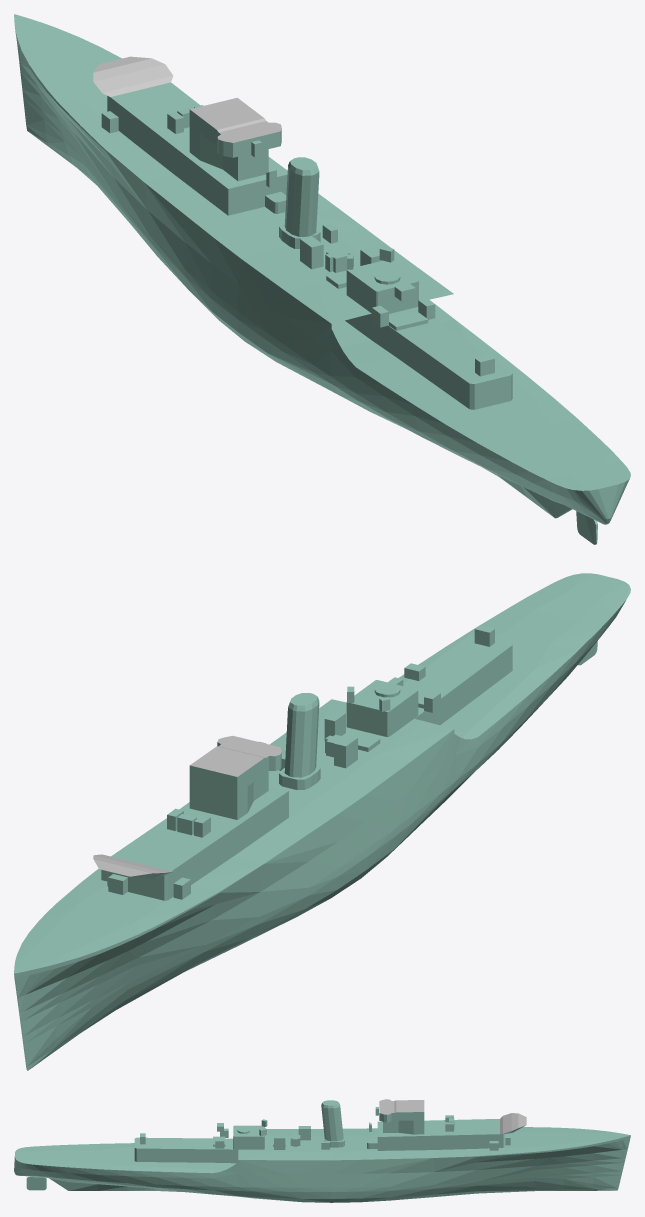
The model's file is PBSC101_armor.glb.
The picture shows the model from 3 angles, top to bottom: view 1: azimuth 30°, elevation 25°; view 2: azimuth 150°, elevation 25°; view 3: azimuth 270°, elevation 25°; orthographic projection. The views are drawn at different scales.
Visible parts, largest first — view 1: armor; view 2: armor; view 3: armor.
Boxes of the visible parts, x1=… form: armor: x1=14, y1=14, x2=630, y2=544; armor: x1=14, y1=573, x2=630, y2=1070; armor: x1=14, y1=1099, x2=630, y2=1202.
Bounding box in the file's own units: 25.59 × 31.41 × 200.
